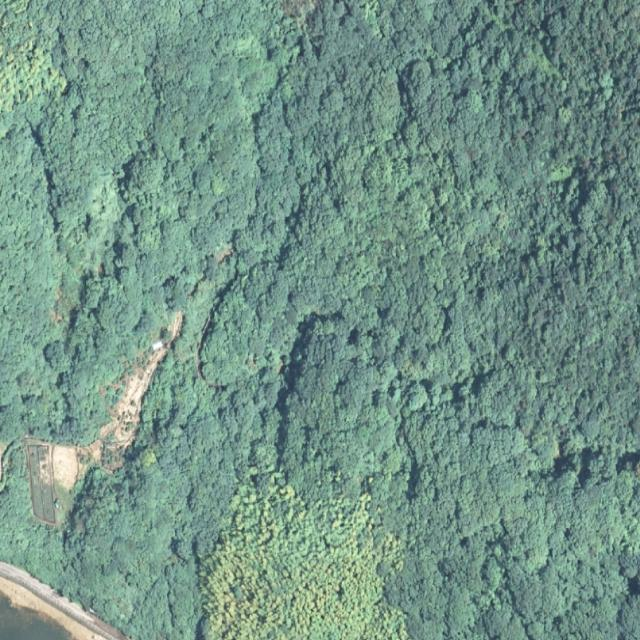landslide: (24, 311, 181, 526)
